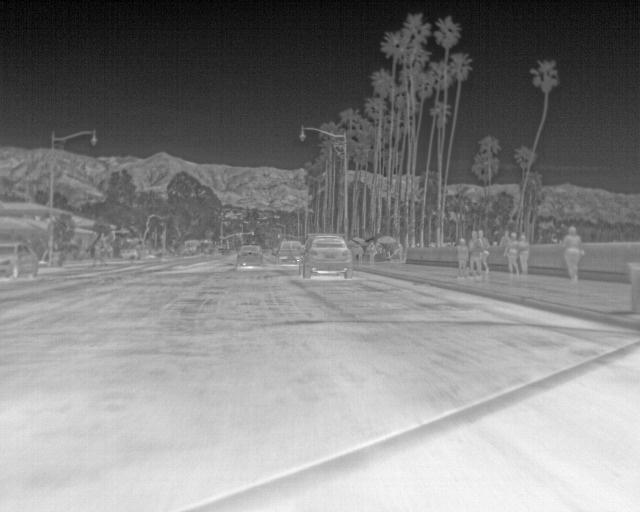bicycle: (300, 232, 351, 278), (0, 242, 42, 280), (236, 243, 266, 266), (278, 239, 302, 265)
empty: (562, 225, 585, 286), (477, 228, 494, 274), (468, 229, 482, 274), (517, 232, 531, 276), (506, 233, 520, 276), (454, 238, 470, 274)
